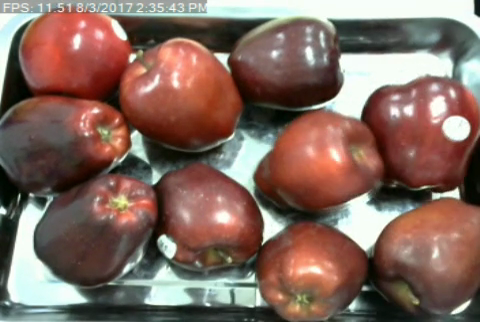Apple: (31, 171, 162, 289), (116, 32, 245, 151), (361, 72, 480, 193), (145, 157, 267, 274), (251, 107, 385, 213), (0, 90, 131, 193), (369, 199, 480, 316), (251, 216, 370, 322), (226, 11, 347, 113), (16, 6, 134, 105)
